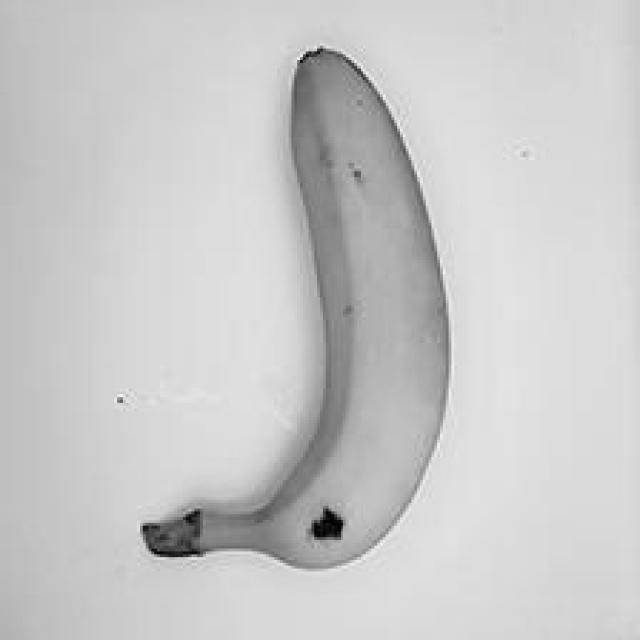Unripe: (133, 28, 468, 576)
